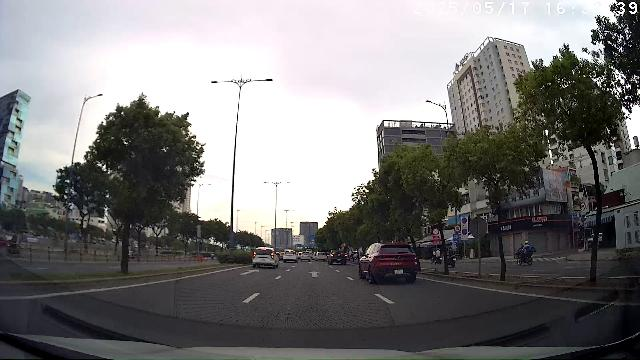127-toc-do-toi-da-50: (455, 226, 461, 232)
